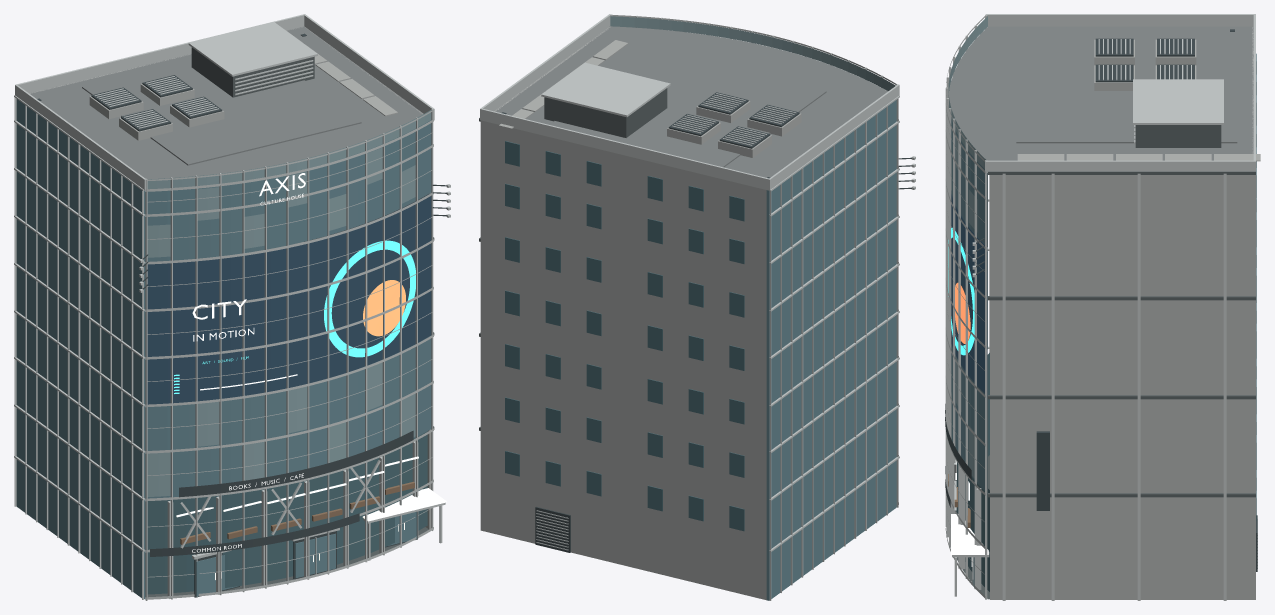
The model's file is crossing-retail.glb.
3 renders of one model, left to right at view 1: azimuth 30°, elevation 25°; view 2: azimuth 150°, elevation 25°; view 3: azimuth 270°, elevation 25°, orthographic. The views are drawn at different scales.
Parts seen in each view (by area): view 1: AXIS_Culture_House_LOD0; view 2: AXIS_Culture_House_LOD0; view 3: AXIS_Culture_House_LOD0.
Part boxes in pixels (box(x1,y1,x2,y2)): AXIS_Culture_House_LOD0: box(14, 14, 450, 600); AXIS_Culture_House_LOD0: box(479, 14, 915, 600); AXIS_Culture_House_LOD0: box(944, 14, 1260, 600).
Bounding box in the file's own units: 30.37 × 40.79 × 25.78.
